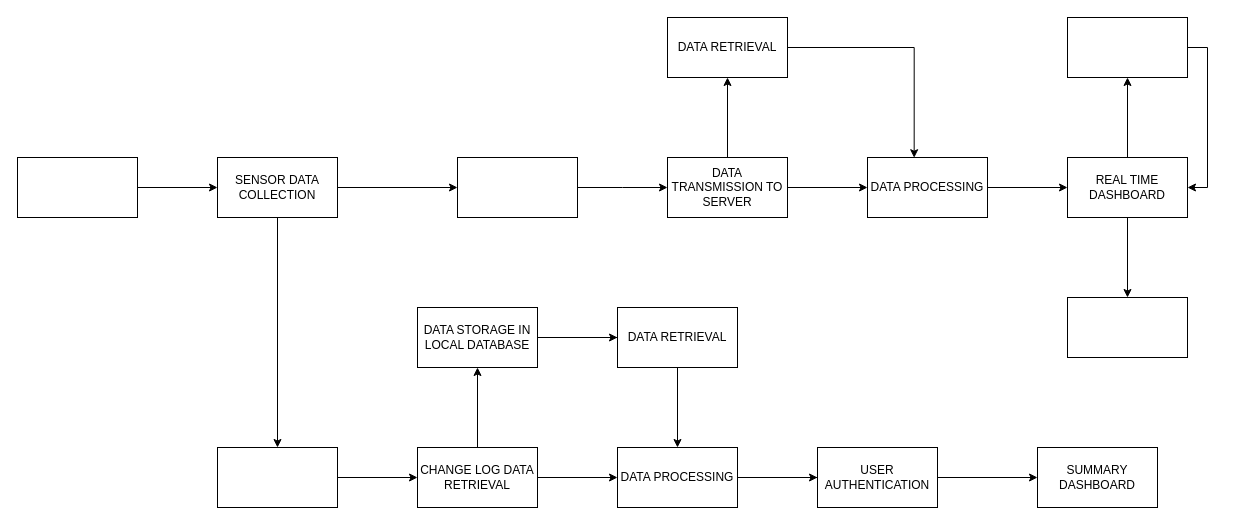
Some shapes in this 1233 by 525 pixel diagram are drawn without their labels. The centre of each missing label's shape, as x and y in pixels:
"CHANGELOG DATA STORAGE" belongs at pixel 277 477.
"DATA STORAGE IN CLOUD" belongs at pixel 517 187.
"HIGHLIGHTS THE BED WHCIH IS MOST PROBABLY NOT WORKING" belongs at pixel 1127 327.
"START" belongs at pixel 77 187.
"UPDATES EVERY 3-4 MINS" belongs at pixel 1127 47.
